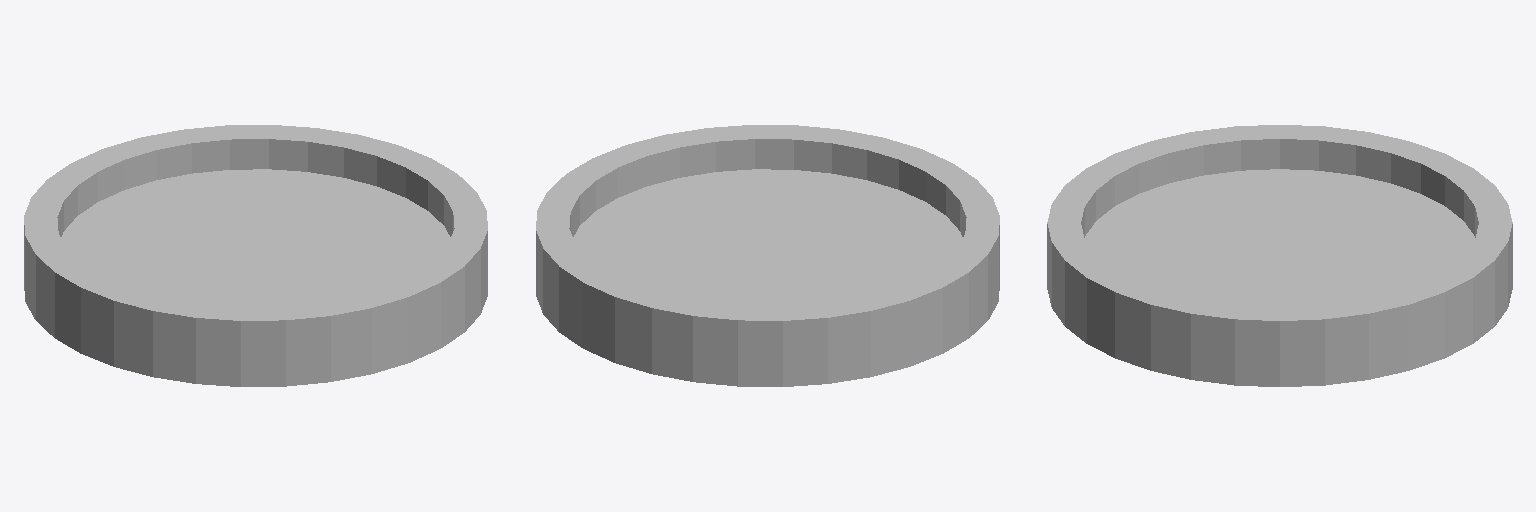
The model's file is hole.obj.
The picture shows the model from 3 angles: view 1: azimuth 30°, elevation 25°; view 2: azimuth 150°, elevation 25°; view 3: azimuth 270°, elevation 25°; orthographic projection.
Visible parts, largest first — view 1: Cylinder; view 2: Cylinder; view 3: Cylinder.
Boxes of the visible parts, x1=… form: Cylinder: x1=24, y1=125, x2=487, y2=386; Cylinder: x1=536, y1=125, x2=999, y2=386; Cylinder: x1=1047, y1=125, x2=1512, y2=386.
Size of the model in its own units: 2 by 0.3139 by 2.